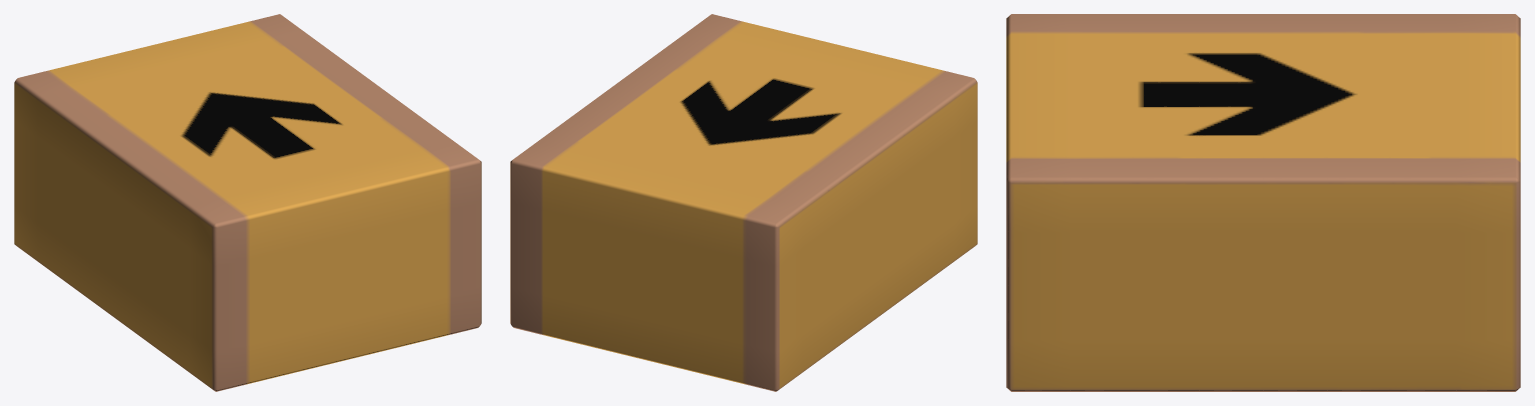
File: box_forward.fbx
3 renders of one model, left to right at view 1: azimuth 30°, elevation 25°; view 2: azimuth 150°, elevation 25°; view 3: azimuth 270°, elevation 25°, orthographic. The views are drawn at different scales.
Parts seen in each view (by area): view 1: box_forward; view 2: box_forward; view 3: box_forward.
Boxes of the visible parts, left/top/right/bottom form: box_forward: left=14, top=14, right=481, bottom=391; box_forward: left=510, top=14, right=977, bottom=391; box_forward: left=1006, top=14, right=1520, bottom=391.
Bounding box in the file's own units: 100 × 60 × 130.
